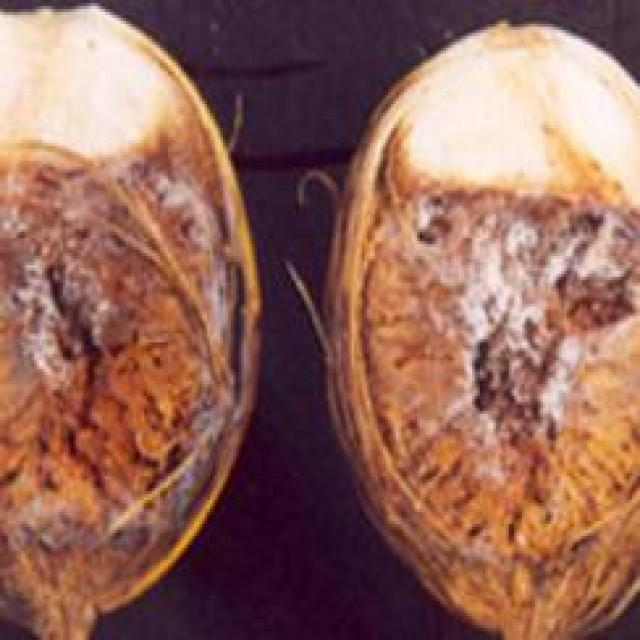damaged: (320, 21, 637, 637), (0, 6, 262, 637)
